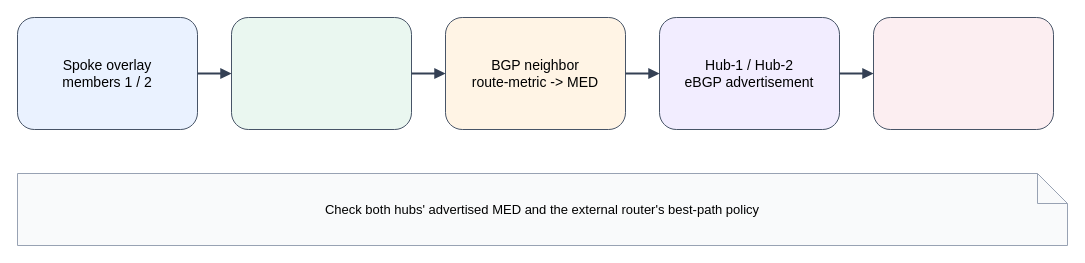
Some shapes in this 1085 by 263 pixel diagram are drawn without their labels. The shapes that lost their labels are listed below. From the top down, each one's centre as x and y in pixels, then its label:
(321,73): Remote health-check SLA priorities
(963,73): External router MED comparison
